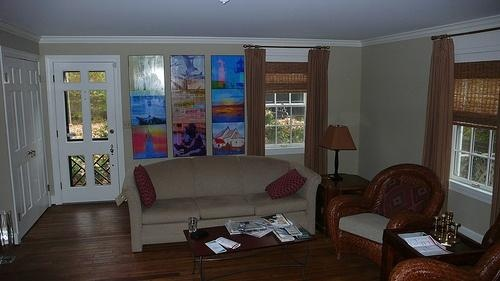chair: (327, 164, 447, 277), (389, 240, 500, 281)
sofa: (122, 156, 324, 253)
